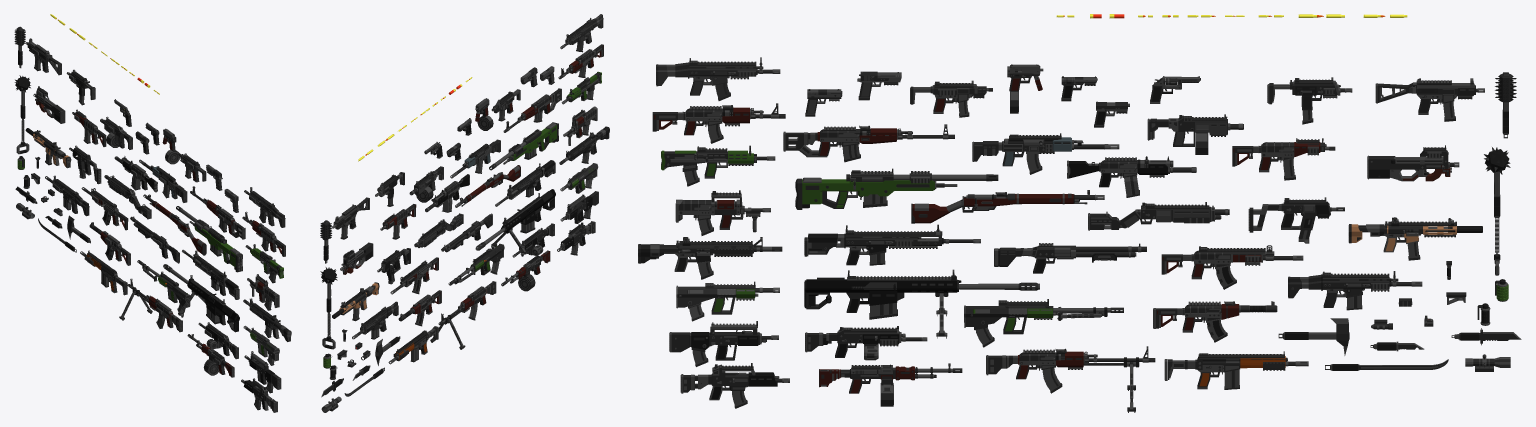
The model's file is low_poly_colored_liberator_gun_pack.glb.
3 renders of one model, left to right at view 1: azimuth 30°, elevation 25°; view 2: azimuth 150°, elevation 25°; view 3: azimuth 270°, elevation 25°, orthographic. The views are drawn at different scales.
Parts seen in each view (by area): view 1: Barret M107_165, AWM_157, RPK-556_93, FN SCAR-SSR_173, Steyr AUG HBAR _81, Dragunov SVD_177, AR-15_19, H&K G3_61, FN SCAR-H_66, FAMAS F1_9, FN SCAR-L_24, AAC Honey Badger_222 (+23 smaller); view 2: Barret M107_165, AWM_157, RPK-556_93, FN SCAR-SSR_173, Steyr AUG HBAR _81, Dragunov SVD_177, H&K G3_61, AR-15_19, FAMAS F1_9, FN SCAR-H_66, AAC Honey Badger_222, FN SCAR-L_24 (+23 smaller); view 3: Barret M107_165, AWM_157, FN SCAR-SSR_173, RPK-556_93, Steyr AUG HBAR _81, Dragunov SVD_177, Mosin Nagat_168, FN SCAR-H_66, AR-15_19, H&K G3_61, FN SCAR-L_24, FAMAS F1_9 (+23 smaller).
Boxes of the visible parts, box(x1,y1,x2,y2) form: Barret M107_165: box(163, 264, 239, 332); AWM_157: box(176, 206, 242, 272); RPK-556_93: box(119, 278, 182, 332); FN SCAR-SSR_173: box(182, 249, 239, 299); Steyr AUG HBAR _81: box(137, 260, 190, 307); Dragunov SVD_177: box(190, 186, 245, 239); AR-15_19: box(243, 298, 291, 341); H&K G3_61: box(80, 250, 127, 295); FN SCAR-H_66: box(45, 175, 89, 216); FAMAS F1_9: box(244, 351, 281, 389); FN SCAR-L_24: box(244, 187, 285, 227); AAC Honey Badger_222: box(25, 128, 71, 168); Barret M107_165: box(475, 189, 555, 256); AWM_157: box(489, 122, 558, 170); RPK-556_93: box(430, 281, 496, 349); FN SCAR-SSR_173: box(495, 160, 555, 206); Steyr AUG HBAR _81: box(448, 243, 504, 285); Dragunov SVD_177: box(503, 88, 561, 132); H&K G3_61: box(388, 326, 438, 364); AR-15_19: box(559, 126, 609, 164); FAMAS F1_9: box(560, 191, 598, 223); FN SCAR-H_66: box(352, 301, 398, 339); AAC Honey Badger_222: box(332, 282, 379, 318); FN SCAR-L_24: box(560, 14, 603, 49); Barret M107_165: box(804, 269, 1039, 338); AWM_157: box(795, 168, 998, 209); FN SCAR-SSR_173: box(804, 224, 980, 265); RPK-556_93: box(986, 346, 1155, 412); Steyr AUG HBAR _81: box(964, 299, 1123, 334); Dragunov SVD_177: box(783, 124, 954, 157); Mosin Nagat_168: box(911, 190, 1104, 223); FN SCAR-H_66: box(1288, 271, 1422, 307); AR-15_19: box(638, 237, 782, 271); H&K G3_61: box(1164, 351, 1308, 389); FN SCAR-L_24: box(656, 57, 780, 95); FAMAS F1_9: box(669, 321, 778, 360).
Bounding box in the file's own units: 1.01 × 7.3 × 14.86.
Materials: 5 (1 with a texture image).
